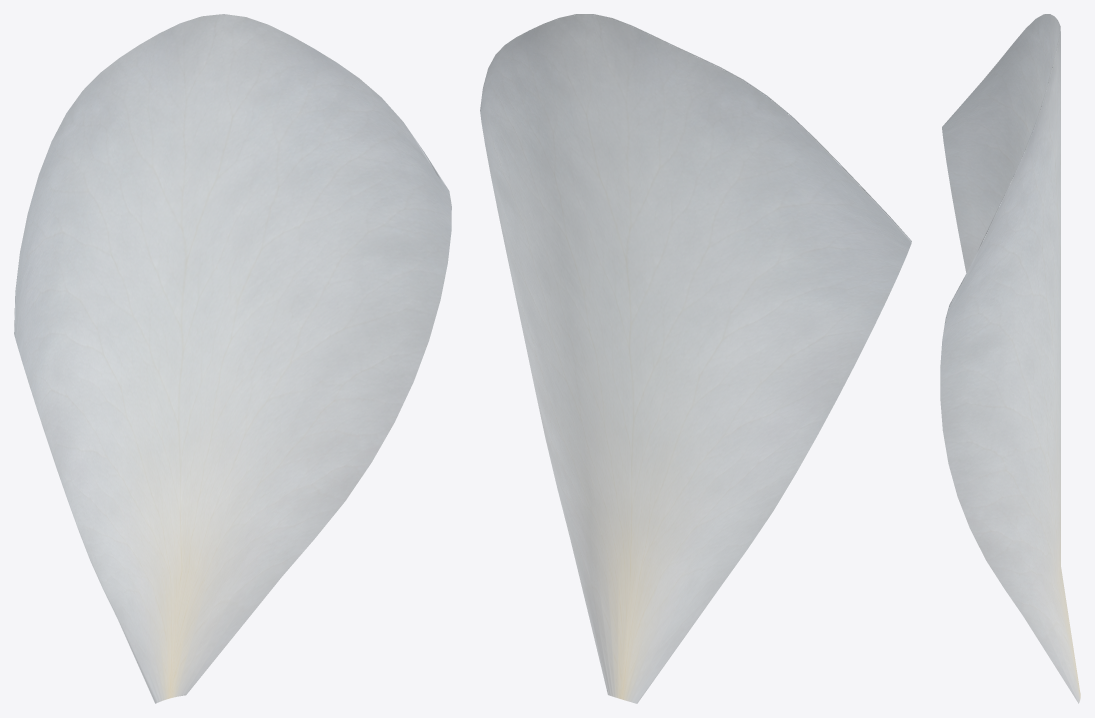
The model's file is middle_04.glb.
The picture shows the model from 3 angles, left to right: view 1: azimuth 30°, elevation 25°; view 2: azimuth 150°, elevation 25°; view 3: azimuth 270°, elevation 25°; orthographic projection. The views are drawn at different scales.
Parts seen in each view (by area): view 1: middle_04; view 2: middle_04; view 3: middle_04.
Boxes of the visible parts, left/top/right/bottom form: middle_04: left=14, top=14, right=451, bottom=703; middle_04: left=480, top=14, right=911, bottom=703; middle_04: left=940, top=14, right=1080, bottom=703.
Bounding box in the file's own units: 0.0567 × 0.0848 × 0.0161.
Materials: 1 (1 with a texture image).
